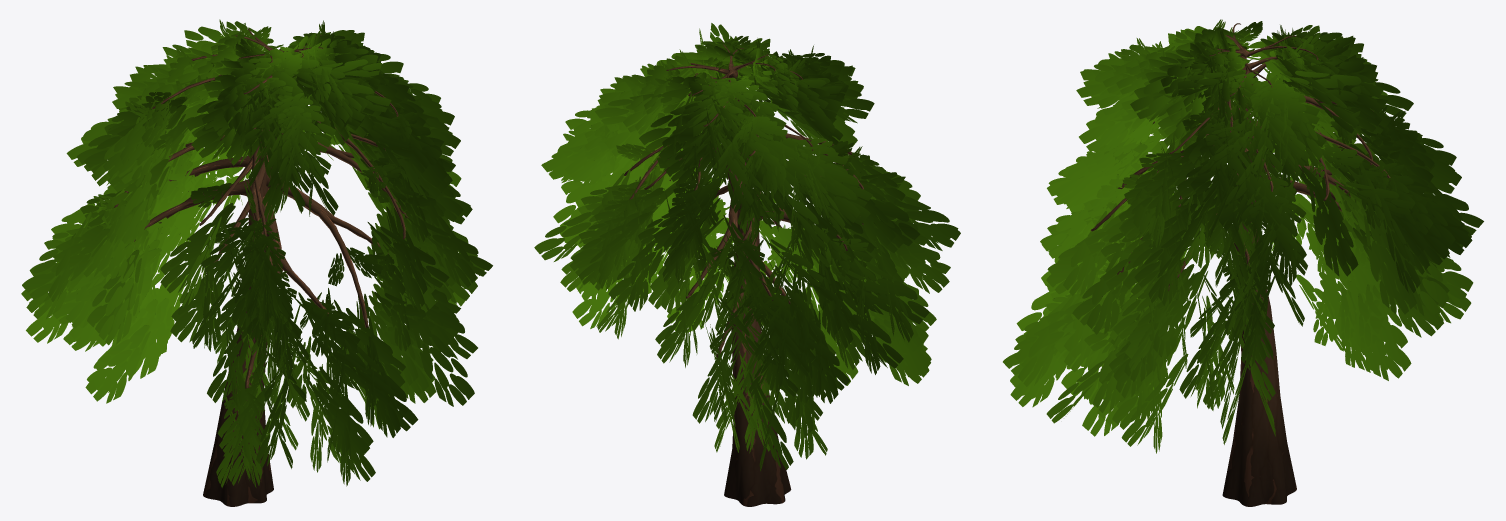
File: GiantPine_3.gltf
The picture shows the model from 3 angles, left to right: view 1: azimuth 30°, elevation 25°; view 2: azimuth 150°, elevation 25°; view 3: azimuth 270°, elevation 25°; orthographic projection. The views are drawn at different scales.
Visible parts, largest first — view 1: GiantPine_3; view 2: GiantPine_3; view 3: GiantPine_3.
Part boxes in pixels (x1,y1,x2,y2): GiantPine_3: (21, 19, 492, 506); GiantPine_3: (534, 23, 960, 506); GiantPine_3: (1003, 19, 1483, 506).
Bounding box in the file's own units: 12.55 × 13.11 × 12.29.
Materials: 2 (2 with a texture image).
